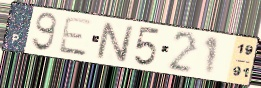1: (201, 35, 220, 78)
2: (166, 29, 203, 76)
5: (131, 25, 163, 68)
9: (30, 11, 60, 53)
E: (56, 15, 95, 59)
N: (95, 20, 135, 65)
